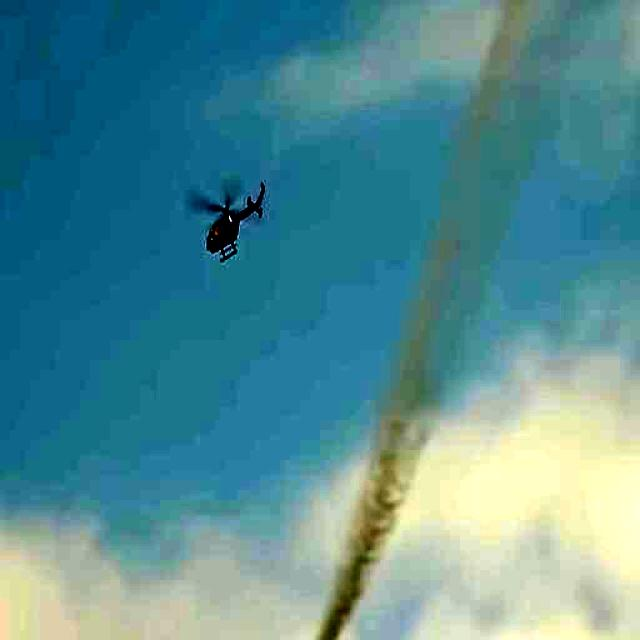drone: (184, 164, 281, 279)
